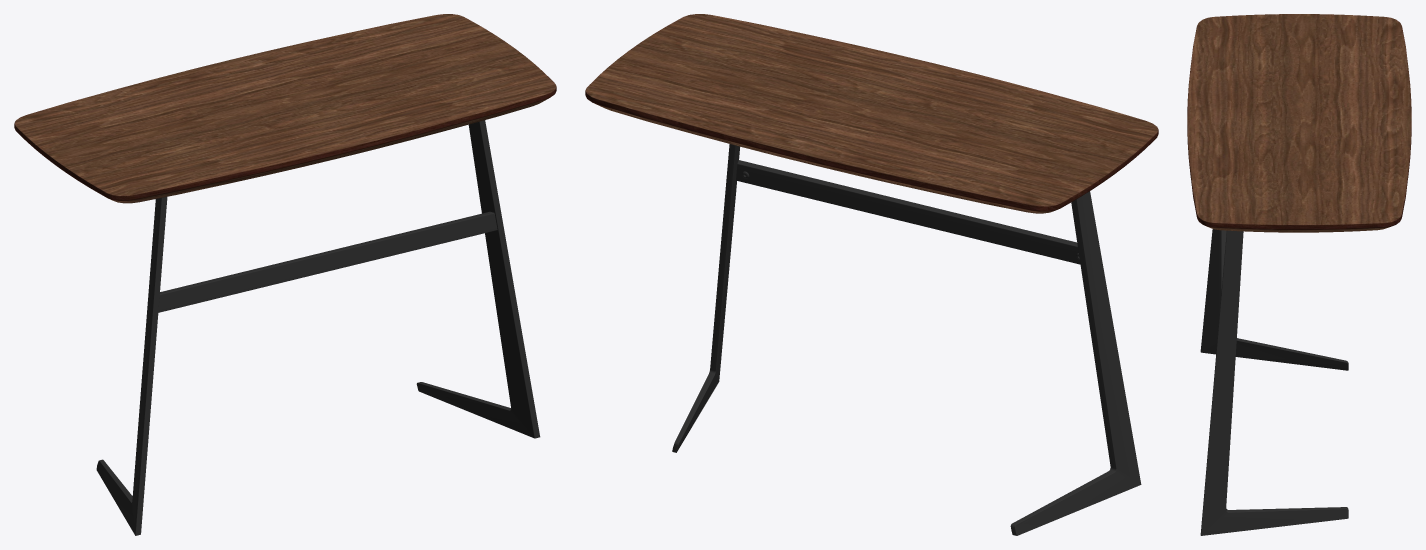
File: abo_B072ZK2FZ6.glb
The picture shows the model from 3 angles, left to right: view 1: azimuth 30°, elevation 25°; view 2: azimuth 150°, elevation 25°; view 3: azimuth 270°, elevation 25°; orthographic projection. The views are drawn at different scales.
Visible parts, largest first — view 1: RootNode; view 2: RootNode; view 3: RootNode.
Boxes of the visible parts, x1,y1,x2,y2 form: RootNode: (14,14,556,535); RootNode: (585,14,1158,535); RootNode: (1187,14,1411,535).
Size of the model in its own units: 0.8036 by 0.5763 by 0.3613.
1 material, 1 textured.
